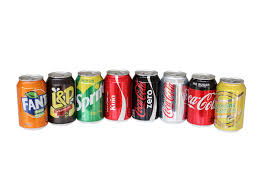can: (15, 71, 247, 135)
